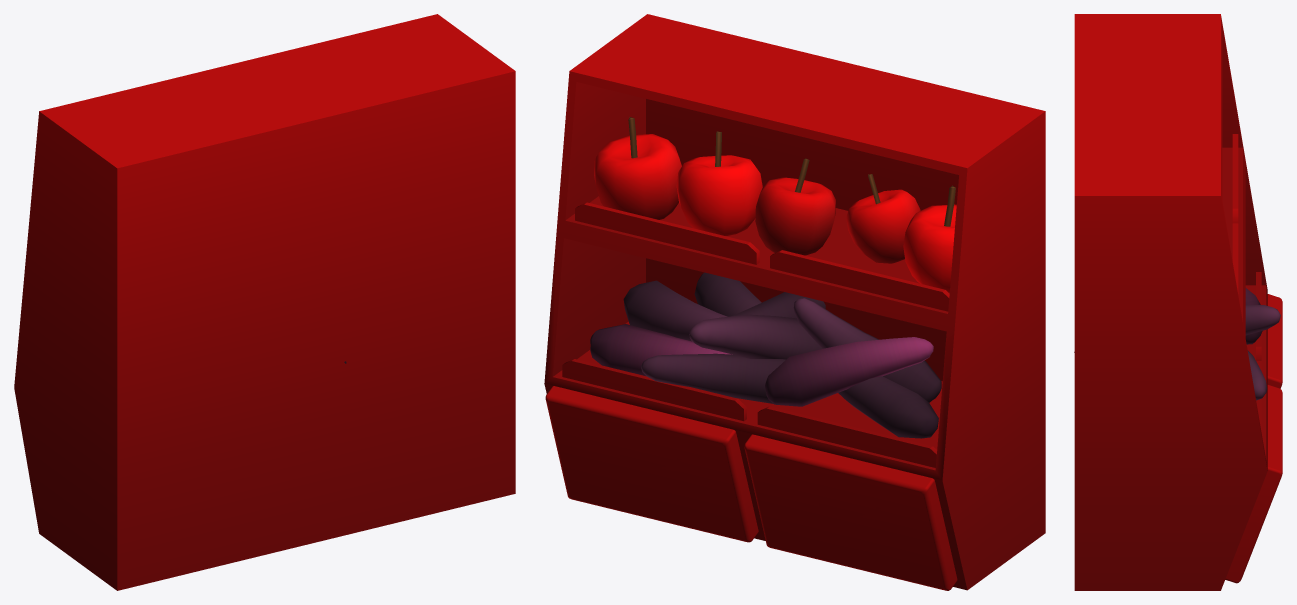
File: Shelf_Short_Fruit.fbx
3 views of the same model, side by side, from view 1: azimuth 30°, elevation 25°; view 2: azimuth 150°, elevation 25°; view 3: azimuth 270°, elevation 25° (orthographic). The views are drawn at different scales.
Visible parts, largest first — view 1: Shelf_Short_Fruit; view 2: Shelf_Short_Fruit; view 3: Shelf_Short_Fruit.
Boxes of the visible parts, <box> form: Shelf_Short_Fruit: <box>14,14,515,590</box>; Shelf_Short_Fruit: <box>544,14,1045,590</box>; Shelf_Short_Fruit: <box>1074,14,1282,590</box>.
Size of the model in its own units: 10.01 by 10.14 by 4.85.
